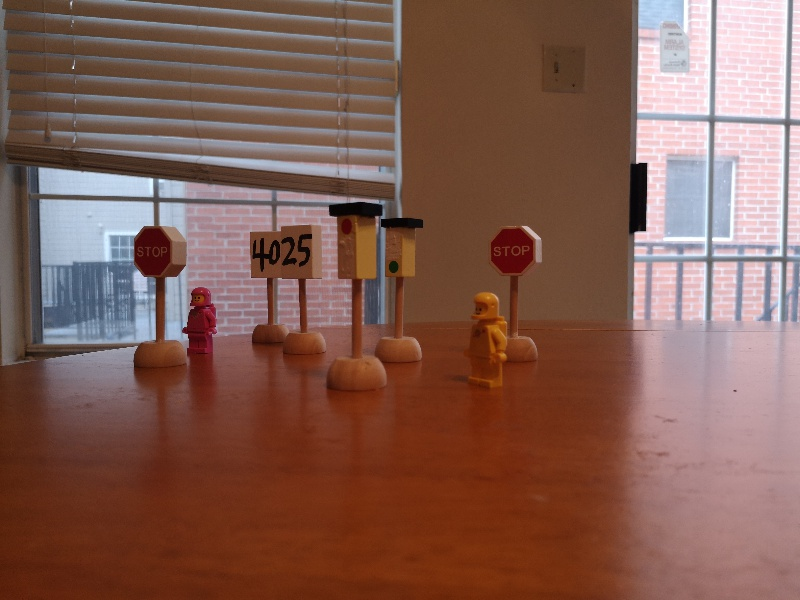Green Traffic Light: (381, 218, 426, 278)
Person: (465, 291, 508, 389), (181, 287, 219, 356)
Red Traffic Light: (327, 203, 382, 280)
Speed Limit 25: (279, 225, 322, 280)
Speed Limit 40: (250, 231, 282, 280)
Stop Sign: (130, 225, 189, 279), (488, 224, 544, 279)
